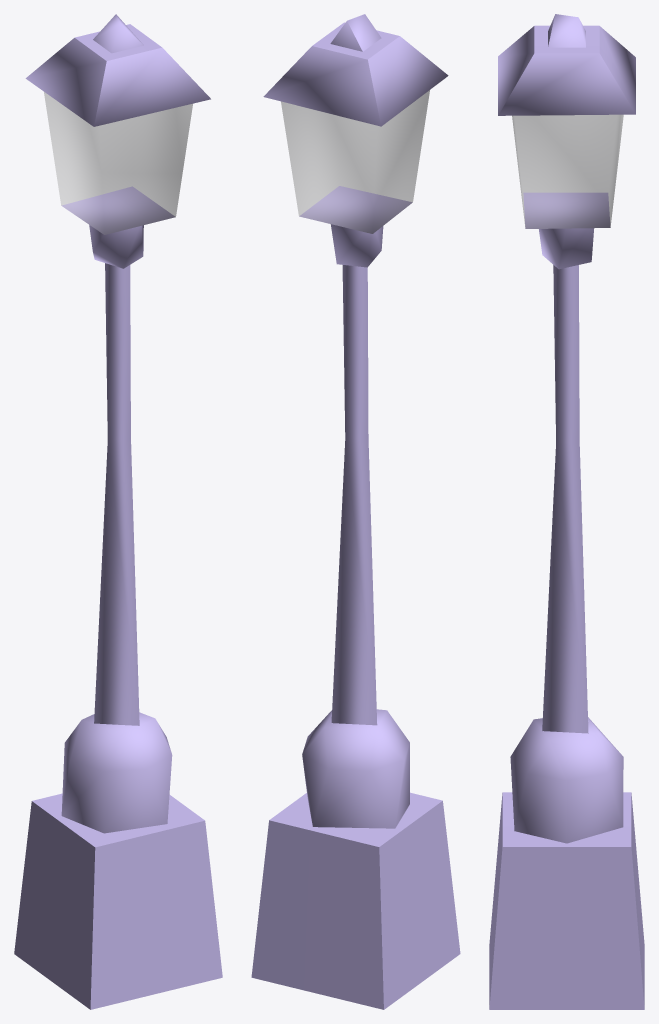
The model's file is Faroles.obj.
3 renders of one model, left to right at view 1: azimuth 30°, elevation 25°; view 2: azimuth 150°, elevation 25°; view 3: azimuth 270°, elevation 25°, orthographic.
Visible parts, largest first — view 1: ParkLamp_Untitled.189; view 2: ParkLamp_Untitled.189; view 3: ParkLamp_Untitled.189.
Part boxes in pixels (bbox=[...]): ParkLamp_Untitled.189: bbox=[14, 14, 222, 1009]; ParkLamp_Untitled.189: bbox=[251, 14, 460, 1009]; ParkLamp_Untitled.189: bbox=[489, 14, 644, 1009].
Bounding box in the file's own units: 0.4831 × 3.3 × 0.4831.
